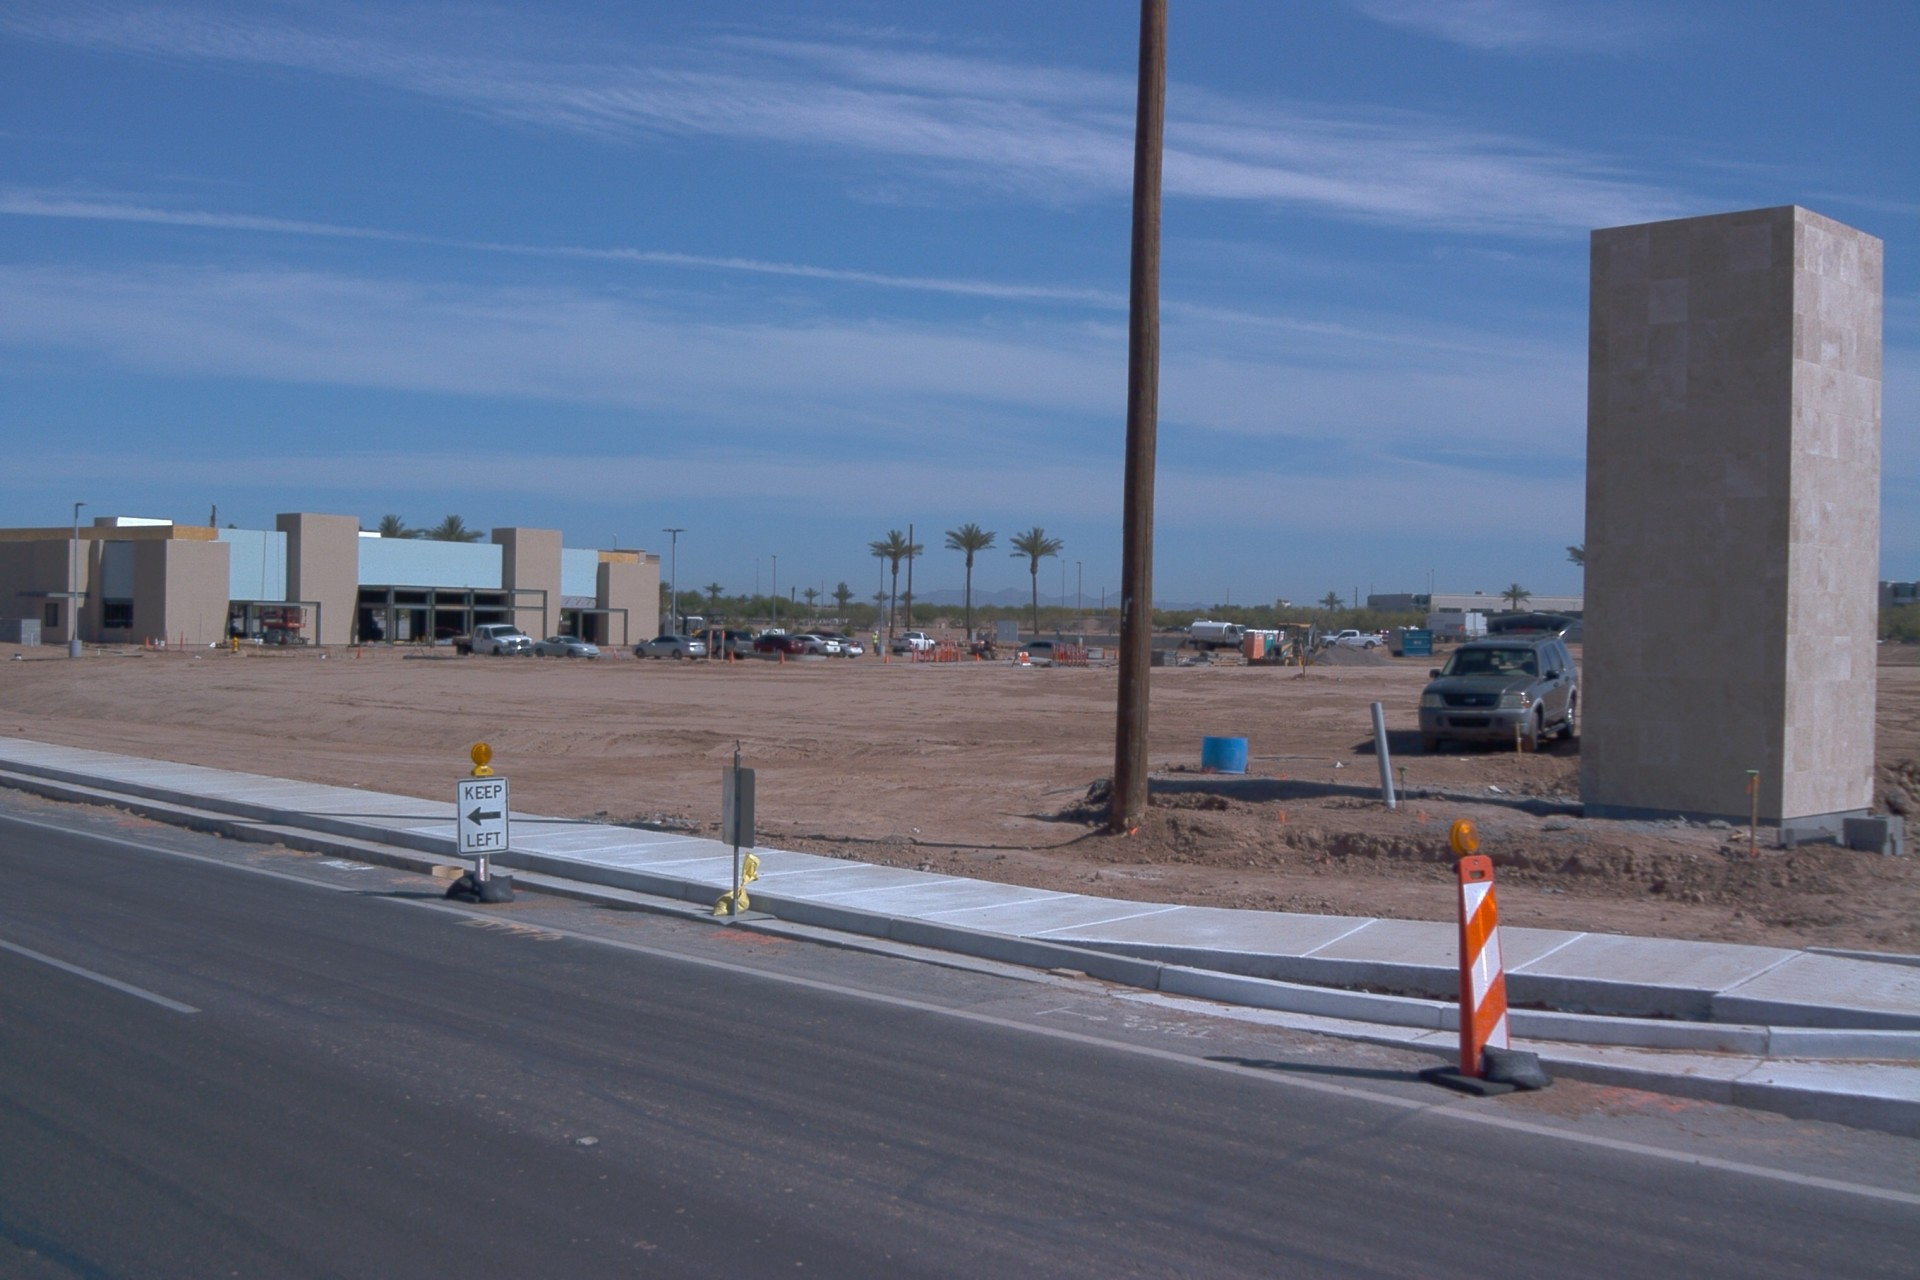TYPE_PEDESTRIAN: (872, 628, 881, 655)
TYPE_VEHICLE: (1415, 638, 1580, 754), (1243, 619, 1320, 667), (450, 621, 539, 660), (690, 620, 759, 661), (631, 632, 709, 660), (1189, 620, 1247, 654), (533, 633, 600, 656), (1016, 638, 1087, 659), (807, 628, 865, 653), (1318, 630, 1383, 651), (749, 629, 806, 652), (886, 631, 935, 655), (789, 633, 839, 655), (828, 633, 867, 657), (675, 616, 705, 632), (759, 629, 787, 641)
